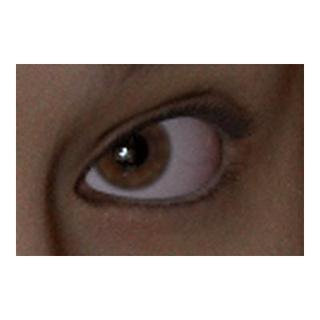pupil: (113, 132, 148, 167)
